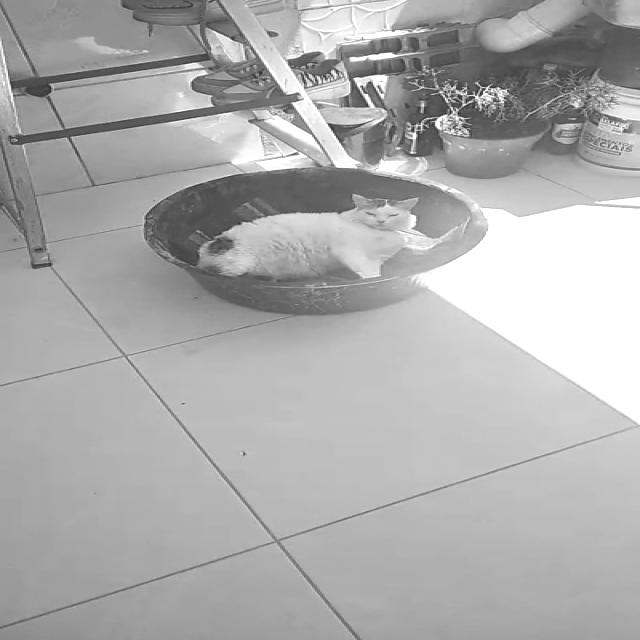Simba: (212, 188, 462, 272)
